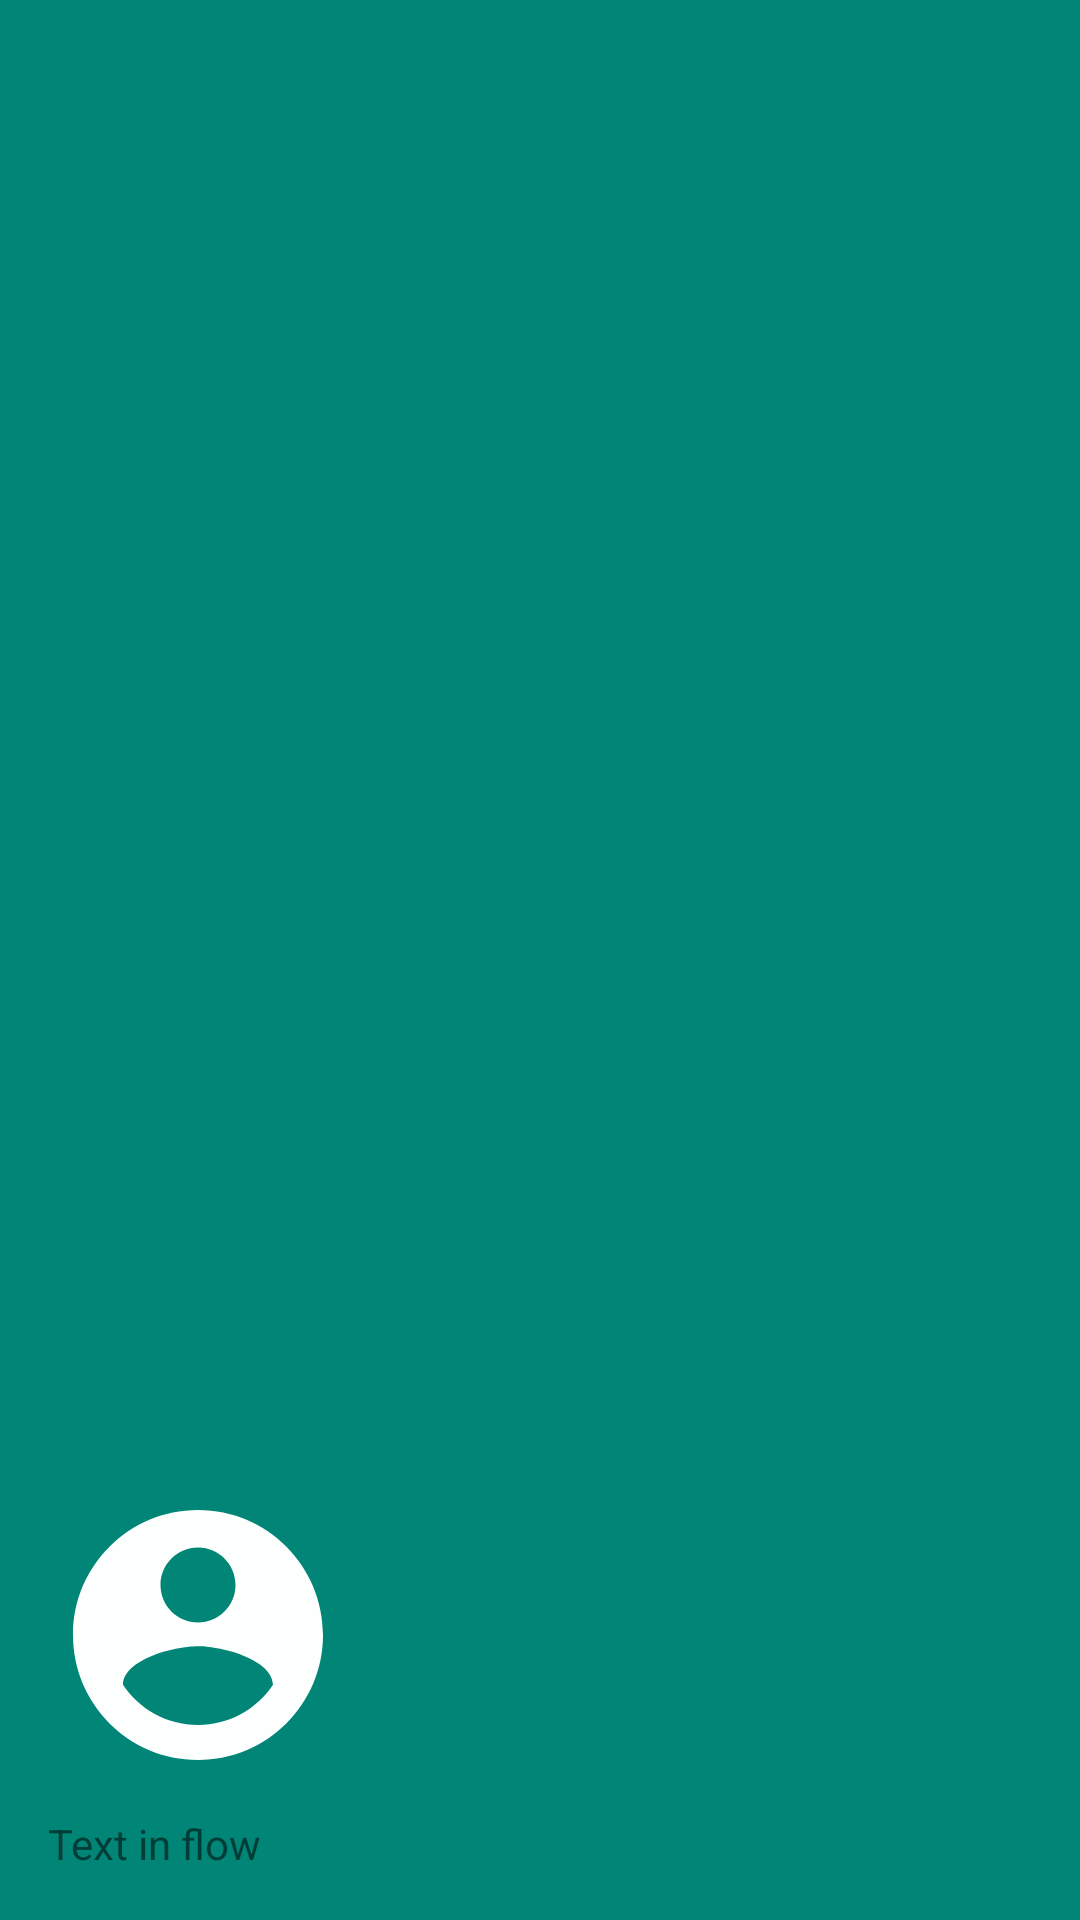

Screen size 1080×1920. Icon name, then its center in pixels as (x=x, y=y):
account circle: (x=198, y=1635)
